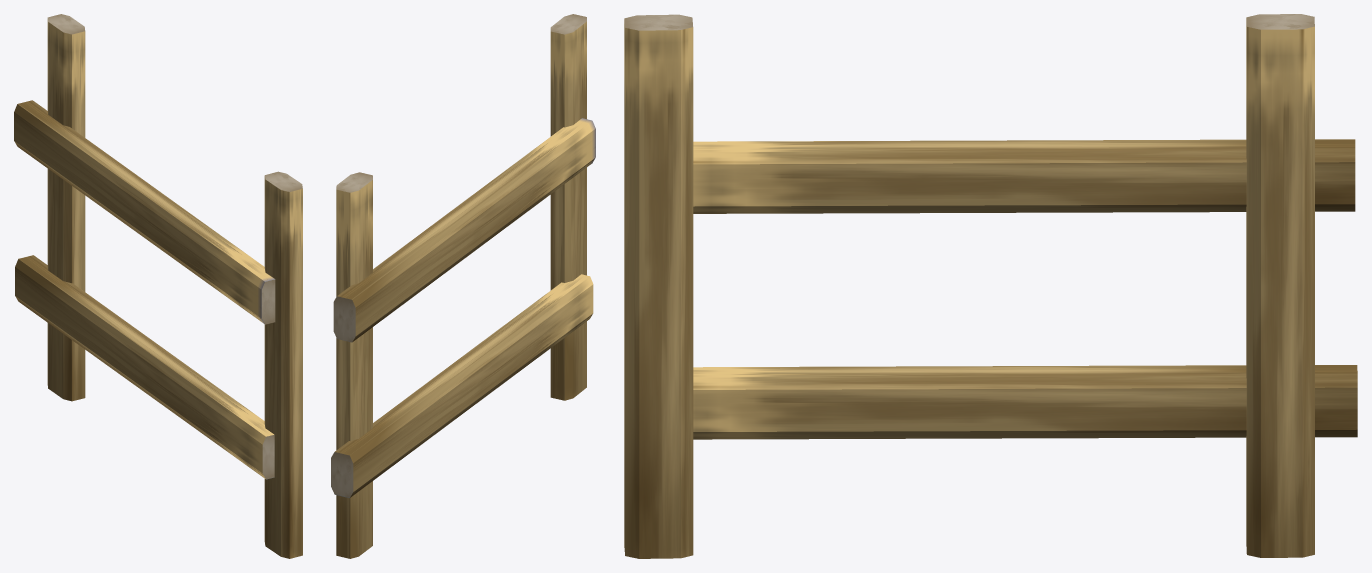
File: archwayrailscan.fbx
3 views of the same model, side by side, from view 1: azimuth 30°, elevation 25°; view 2: azimuth 150°, elevation 25°; view 3: azimuth 270°, elevation 25° (orthographic). The views are drawn at different scales.
Visible parts, largest first — view 1: Bar_1, Bar_2, Pole_2, Pole_1; view 2: Bar_1, Bar_2, Pole_1, Pole_2; view 3: Bar_2, Bar_1, Pole_2, Pole_1.
Boxes of the visible parts, bbox=[...] form: Bar_1: bbox=[14, 100, 275, 324]; Bar_2: bbox=[15, 255, 274, 479]; Pole_2: bbox=[264, 171, 302, 558]; Pole_1: bbox=[47, 14, 85, 401]; Bar_1: bbox=[333, 118, 595, 342]; Bar_2: bbox=[331, 274, 593, 497]; Pole_1: bbox=[336, 172, 372, 558]; Pole_2: bbox=[550, 14, 586, 400]; Bar_2: bbox=[693, 365, 1357, 439]; Bar_1: bbox=[693, 139, 1355, 213]; Pole_2: bbox=[624, 14, 693, 558]; Pole_1: bbox=[1246, 14, 1314, 557].
Size of the model in its own units: 14.98 by 133 by 167.
